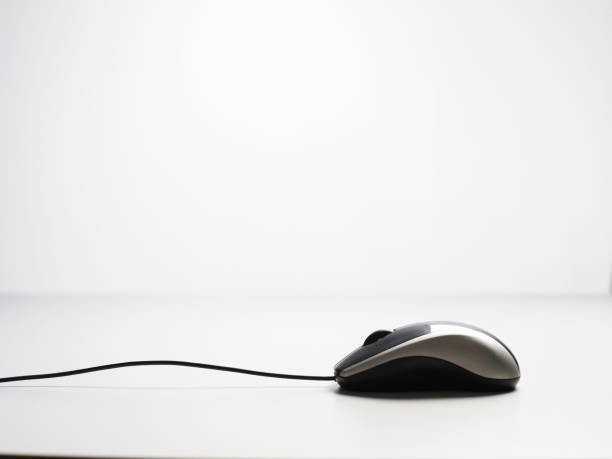mouse: (328, 318, 523, 399)
